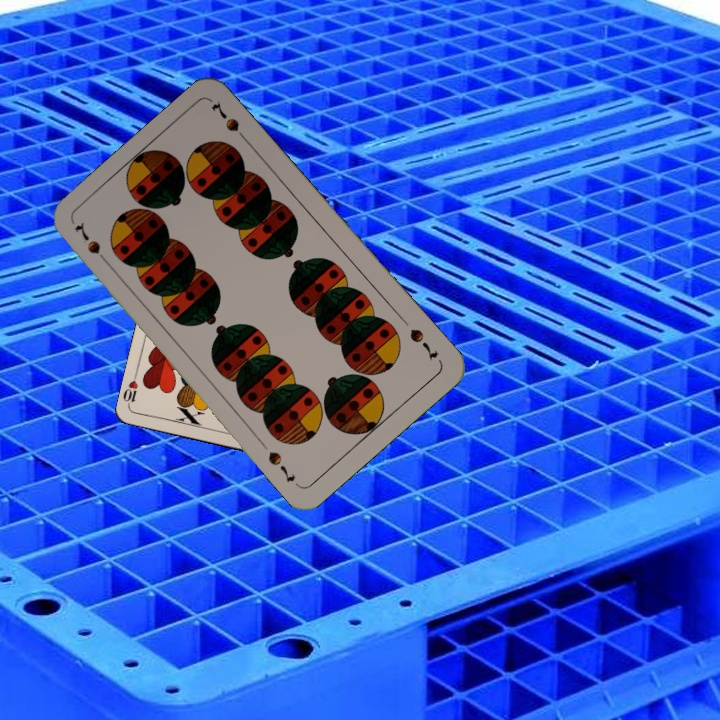S7: (70, 218, 113, 269), (405, 324, 441, 363)
